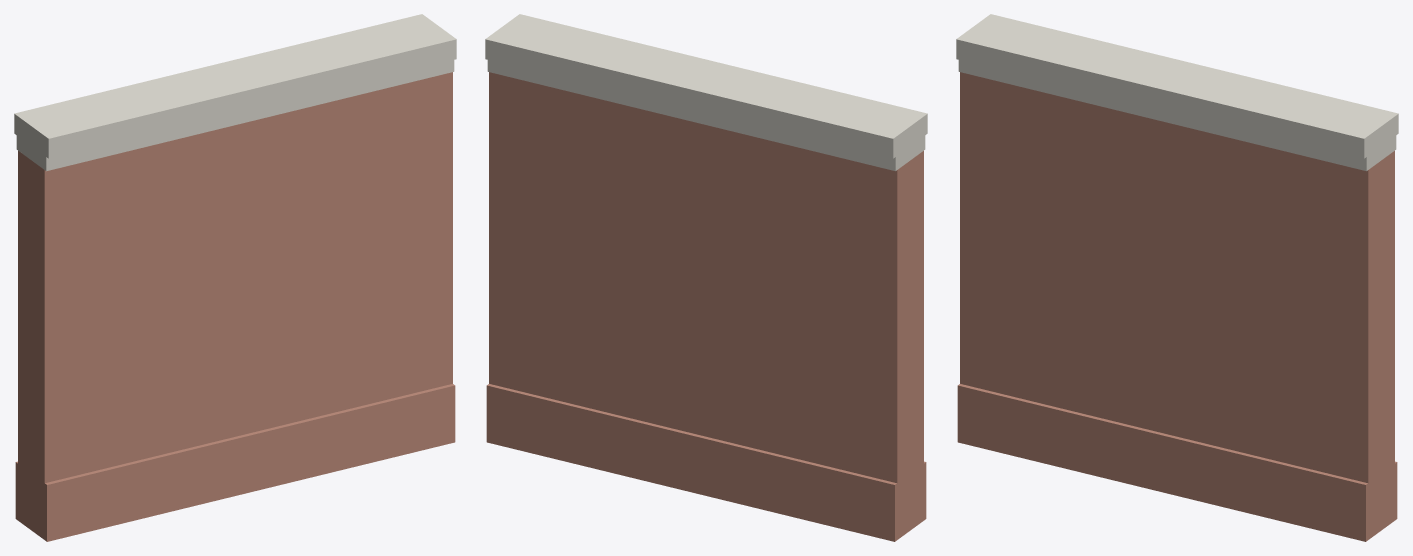
File: botanical-glasshouse-and-palm-house-botanical-glasshou-0fa5adfd__38541.glb
3 views of the same model, side by side, from view 1: azimuth 30°, elevation 25°; view 2: azimuth 150°, elevation 25°; view 3: azimuth 330°, elevation 25° (orthographic).
Visible parts, largest first — view 1: botanical-glasshouse-and-palm-house-brick-wall-module; view 2: botanical-glasshouse-and-palm-house-brick-wall-module; view 3: botanical-glasshouse-and-palm-house-brick-wall-module.
Boxes of the visible parts, box(x1,y1,x2,y2) form: botanical-glasshouse-and-palm-house-brick-wall-module: box(14, 14, 456, 541); botanical-glasshouse-and-palm-house-brick-wall-module: box(485, 14, 927, 541); botanical-glasshouse-and-palm-house-brick-wall-module: box(956, 14, 1398, 541).
Size of the model in its own units: 3 by 2.84 by 0.4398.
